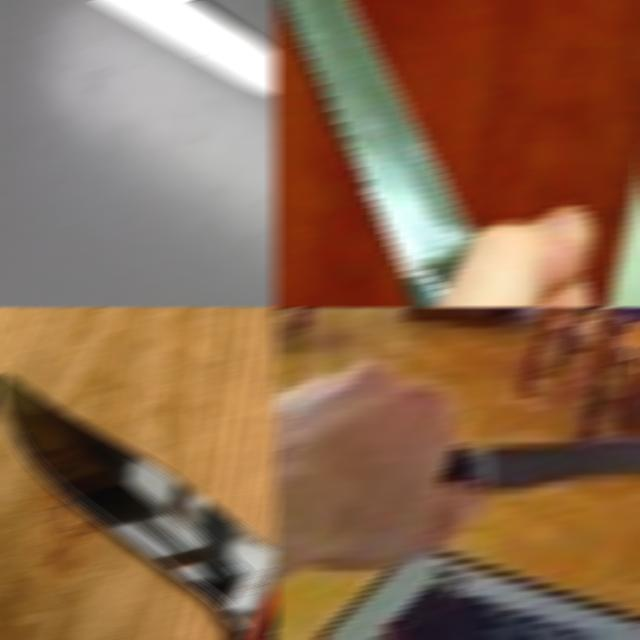Knife: (272, 0, 476, 306), (91, 0, 278, 96)
Knife_Handle: (302, 363, 640, 567)
